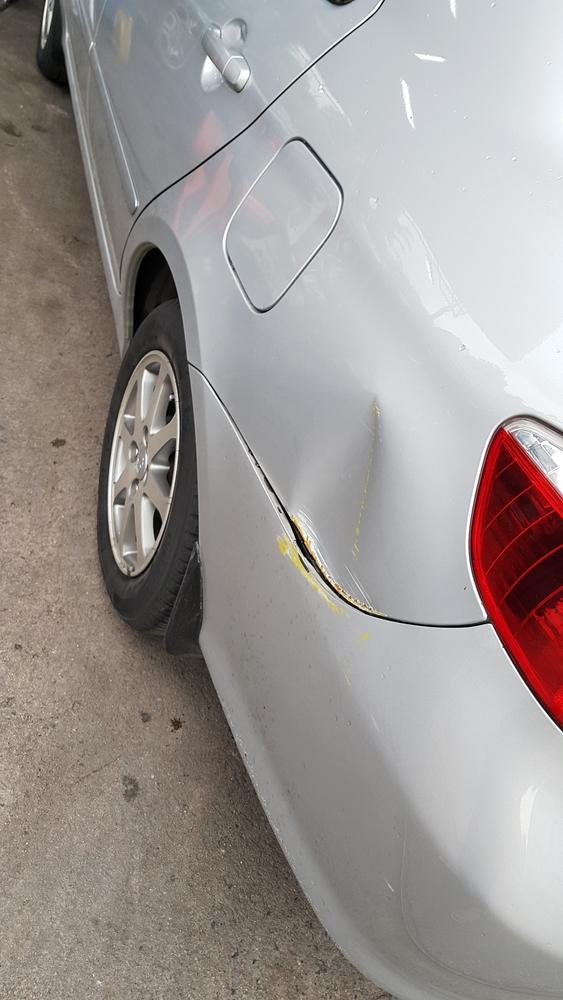dent: (284, 395, 402, 593)
scratch: (273, 526, 355, 622)
